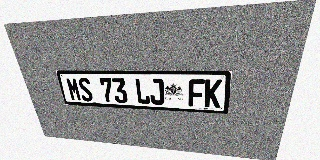3: (111, 78, 128, 103)
7: (98, 78, 115, 103)
F: (188, 79, 205, 107)
J: (149, 78, 165, 105)
K: (204, 79, 222, 108)
L: (134, 78, 150, 104)
M: (65, 77, 82, 101)
S: (77, 78, 94, 102)
